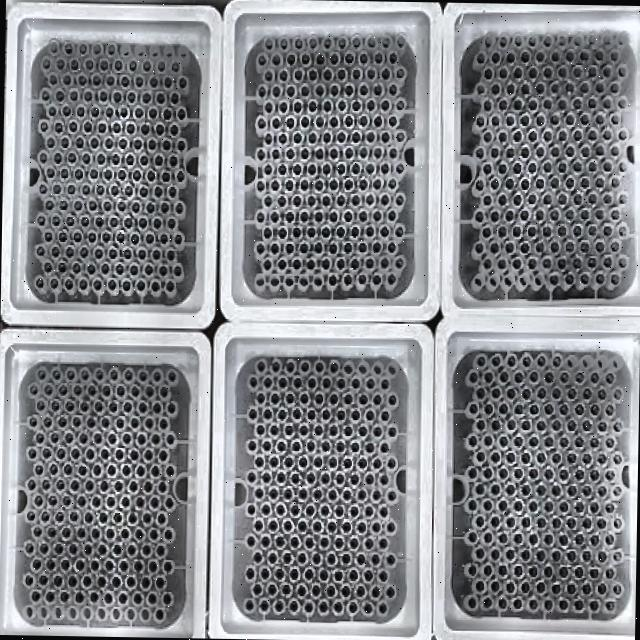vial: (172, 232, 184, 247), (164, 280, 175, 294), (61, 41, 72, 54), (34, 244, 45, 257), (163, 77, 173, 91), (174, 202, 184, 216), (72, 260, 82, 274), (396, 34, 406, 48), (551, 355, 562, 367), (172, 264, 183, 276), (596, 388, 606, 401), (490, 419, 500, 432), (60, 105, 70, 118), (65, 183, 75, 196), (38, 182, 48, 195), (144, 232, 154, 245), (64, 245, 74, 258), (50, 245, 60, 258), (150, 281, 160, 294), (144, 264, 154, 277), (349, 194, 359, 207), (40, 88, 49, 102), (381, 66, 390, 80), (536, 354, 546, 366), (476, 354, 486, 366), (590, 405, 600, 417), (574, 436, 584, 448), (612, 484, 622, 496), (474, 516, 484, 528), (356, 586, 366, 598), (341, 584, 351, 596), (356, 553, 366, 565), (378, 570, 388, 582), (386, 586, 396, 598), (292, 376, 302, 388), (254, 360, 264, 372), (34, 432, 44, 444), (144, 417, 154, 429), (155, 60, 165, 72), (134, 76, 144, 88), (155, 124, 165, 136), (124, 153, 134, 165), (94, 216, 104, 228), (103, 168, 113, 180), (68, 121, 78, 133), (38, 120, 48, 132), (176, 170, 186, 182), (137, 216, 147, 228), (56, 262, 66, 274), (366, 35, 376, 47), (322, 36, 332, 48), (308, 36, 318, 48), (329, 52, 339, 64), (300, 52, 310, 64), (372, 84, 382, 96), (255, 86, 265, 98), (328, 210, 338, 222), (328, 178, 338, 190), (262, 226, 272, 238), (394, 194, 404, 206), (386, 242, 396, 254), (573, 34, 583, 46), (558, 34, 568, 46), (498, 98, 508, 110), (528, 98, 538, 110), (484, 34, 494, 46), (476, 52, 486, 64), (482, 100, 492, 112), (617, 161, 627, 173), (610, 208, 620, 220), (580, 272, 590, 284), (594, 208, 604, 220), (526, 258, 536, 270), (595, 272, 605, 284), (618, 256, 628, 268), (138, 401, 147, 414), (80, 215, 89, 228), (51, 214, 60, 227), (160, 201, 169, 214), (166, 217, 175, 230), (135, 280, 144, 293), (92, 278, 101, 291), (394, 225, 403, 238), (476, 84, 484, 98), (552, 387, 562, 398), (528, 467, 538, 478), (498, 467, 508, 478), (536, 517, 546, 528), (490, 516, 500, 527), (612, 550, 622, 561), (604, 567, 614, 578), (574, 566, 584, 577), (558, 566, 568, 577), (536, 582, 546, 593), (267, 584, 277, 595), (282, 488, 292, 499), (276, 472, 286, 483), (268, 488, 278, 499), (328, 361, 338, 372), (262, 408, 272, 419), (27, 416, 37, 427), (176, 108, 186, 119), (84, 59, 94, 70), (91, 76, 101, 87), (126, 91, 136, 102), (132, 170, 142, 181), (139, 155, 149, 166), (94, 185, 104, 196), (103, 137, 113, 148), (152, 186, 162, 197), (158, 233, 168, 244), (136, 249, 146, 260), (78, 246, 88, 257), (63, 278, 73, 289), (306, 163, 316, 174), (306, 227, 316, 238), (254, 243, 264, 254), (364, 226, 374, 237), (527, 35, 537, 46), (490, 84, 500, 95), (594, 51, 604, 62), (610, 114, 620, 125), (580, 147, 590, 158), (534, 178, 544, 189), (512, 163, 522, 174), (534, 115, 544, 126), (519, 242, 529, 253), (610, 273, 620, 284), (474, 244, 484, 255), (522, 354, 531, 366), (492, 354, 501, 366), (551, 484, 560, 496), (388, 522, 397, 534), (333, 602, 342, 614), (349, 569, 358, 581), (256, 424, 265, 436), (379, 473, 388, 485), (248, 376, 257, 388), (372, 394, 381, 406), (137, 433, 146, 445), (112, 512, 121, 524), (120, 496, 129, 508), (107, 464, 116, 476), (63, 464, 72, 476), (158, 480, 167, 492), (141, 576, 150, 588), (45, 590, 54, 602), (31, 590, 40, 602), (155, 609, 164, 621), (142, 60, 151, 72), (128, 60, 137, 72), (149, 76, 158, 88), (82, 90, 91, 102), (116, 232, 125, 244), (116, 200, 125, 212), (118, 136, 127, 148), (74, 170, 83, 182), (51, 184, 60, 196), (60, 137, 69, 149), (38, 151, 47, 163), (177, 140, 186, 152), (152, 216, 161, 228), (130, 232, 139, 244), (123, 248, 132, 260), (115, 262, 124, 274), (86, 263, 95, 275), (49, 278, 58, 290), (43, 262, 52, 274), (381, 36, 390, 48), (338, 36, 347, 48), (374, 52, 383, 64), (358, 52, 367, 64), (315, 54, 324, 66), (286, 54, 295, 66), (271, 53, 280, 65), (359, 114, 368, 126), (307, 100, 316, 112), (272, 86, 281, 98), (395, 162, 404, 174), (349, 224, 358, 236), (358, 178, 367, 190), (321, 226, 330, 238), (388, 209, 397, 221), (379, 225, 388, 237), (306, 258, 315, 270), (617, 34, 626, 46), (602, 34, 611, 46), (506, 52, 515, 64), (557, 98, 566, 110), (580, 176, 589, 188), (527, 162, 536, 174), (520, 146, 529, 158), (610, 144, 619, 156), (603, 224, 612, 236), (580, 241, 589, 253), (505, 242, 514, 254), (248, 439, 256, 452), (145, 449, 153, 462), (110, 184, 118, 197), (612, 175, 620, 188), (602, 192, 610, 205), (544, 373, 554, 383), (514, 468, 524, 478), (604, 404, 614, 414), (604, 470, 614, 480), (612, 518, 622, 528), (604, 534, 614, 544), (558, 600, 568, 610), (528, 600, 538, 610), (282, 520, 292, 530), (252, 552, 262, 562), (372, 426, 382, 436), (350, 442, 360, 452), (320, 474, 330, 484), (328, 426, 338, 436), (284, 361, 294, 371), (342, 394, 352, 404), (380, 410, 390, 420), (144, 386, 154, 396), (122, 402, 132, 412), (150, 464, 160, 474), (120, 528, 130, 538), (128, 482, 138, 492), (54, 544, 64, 554), (163, 530, 173, 540), (96, 576, 106, 586), (68, 576, 78, 586), (132, 594, 142, 604), (170, 62, 180, 72), (104, 76, 114, 86), (88, 108, 98, 118), (140, 124, 150, 134), (110, 154, 120, 164), (146, 202, 156, 212), (128, 264, 138, 274), (34, 278, 44, 288), (351, 36, 361, 46), (380, 100, 390, 110), (358, 84, 368, 94), (336, 100, 346, 110), (350, 163, 360, 173), (292, 164, 302, 174), (342, 212, 352, 222), (542, 66, 552, 76), (572, 66, 582, 76), (602, 97, 612, 107), (572, 162, 582, 172), (594, 114, 604, 124), (594, 242, 604, 252), (564, 241, 574, 251), (610, 240, 620, 250), (507, 355, 516, 366), (484, 372, 493, 383), (499, 371, 508, 382), (522, 388, 531, 399), (559, 469, 568, 480), (536, 421, 545, 432), (514, 436, 523, 447), (589, 502, 598, 513), (551, 550, 560, 561), (537, 550, 546, 561), (613, 583, 622, 594), (605, 599, 614, 610), (498, 598, 507, 609), (483, 597, 492, 608), (348, 602, 357, 613), (306, 441, 315, 452), (247, 471, 256, 482), (388, 490, 397, 501), (328, 393, 337, 404), (52, 368, 61, 379), (36, 368, 45, 379), (85, 448, 94, 459), (79, 400, 88, 411), (41, 447, 50, 458), (57, 385, 66, 396), (160, 418, 169, 429), (98, 545, 107, 556), (136, 466, 145, 477), (84, 544, 93, 555), (69, 511, 78, 522), (26, 479, 35, 490), (157, 576, 166, 587), (126, 576, 135, 587), (53, 576, 62, 587), (23, 575, 32, 586), (60, 591, 69, 602), (48, 41, 57, 52), (114, 60, 123, 71), (99, 59, 108, 70), (42, 58, 51, 69), (120, 75, 129, 86), (99, 92, 108, 103), (131, 202, 140, 213), (117, 169, 126, 180), (73, 231, 82, 242), (90, 137, 99, 148), (97, 123, 106, 134), (82, 121, 91, 132), (44, 200, 53, 211), (36, 216, 45, 227), (293, 37, 302, 48), (344, 115, 353, 126), (285, 148, 294, 159), (263, 164, 272, 175), (343, 179, 352, 190), (285, 211, 294, 222), (262, 196, 271, 207), (387, 273, 396, 284), (372, 274, 381, 285), (299, 275, 308, 286), (543, 36, 552, 47), (491, 51, 500, 62), (483, 68, 492, 79), (520, 50, 529, 61), (528, 67, 537, 78), (565, 145, 574, 156), (550, 147, 559, 158), (558, 130, 567, 141), (498, 193, 507, 204), (490, 178, 499, 189), (483, 163, 492, 174), (602, 161, 611, 172), (587, 257, 596, 268), (565, 274, 574, 285), (542, 258, 551, 269), (498, 226, 507, 237), (490, 211, 499, 222), (482, 258, 491, 269), (584, 386, 592, 398), (598, 518, 606, 530), (598, 485, 606, 497), (558, 534, 566, 546), (552, 516, 560, 528), (568, 484, 576, 496), (590, 600, 598, 612), (543, 566, 551, 578), (468, 564, 476, 576), (318, 600, 326, 612), (304, 568, 312, 580), (289, 600, 297, 612), (284, 552, 292, 564), (277, 440, 285, 452), (278, 378, 286, 390), (248, 408, 256, 420), (256, 392, 264, 404), (102, 384, 110, 396), (30, 384, 38, 396), (166, 434, 174, 446), (27, 448, 35, 460), (121, 464, 129, 476), (48, 528, 56, 540), (78, 464, 86, 476), (26, 542, 34, 554), (150, 496, 158, 508), (112, 576, 120, 588), (39, 574, 47, 586), (118, 592, 126, 604), (62, 74, 70, 86), (156, 92, 164, 104), (142, 92, 150, 104), (112, 90, 120, 102), (104, 108, 112, 120), (56, 89, 64, 101), (73, 200, 81, 212), (82, 152, 90, 164), (75, 137, 83, 149), (54, 152, 62, 164), (46, 136, 54, 148), (168, 156, 176, 168), (168, 186, 176, 198), (152, 248, 160, 260), (108, 247, 116, 259), (122, 280, 130, 292), (108, 280, 116, 292), (79, 280, 87, 292), (279, 36, 287, 48), (390, 50, 398, 62), (345, 52, 353, 64), (258, 54, 266, 66), (330, 116, 338, 128), (301, 115, 309, 127), (324, 68, 332, 80), (308, 68, 316, 80), (396, 99, 404, 111), (359, 146, 367, 158), (344, 146, 352, 158), (300, 148, 308, 160), (256, 148, 264, 160), (270, 211, 278, 223), (588, 32, 596, 44), (500, 34, 508, 46), (514, 67, 522, 79), (506, 83, 514, 95), (550, 82, 558, 94), (544, 98, 552, 110), (573, 97, 581, 109), (588, 160, 596, 172), (542, 130, 550, 142), (498, 131, 506, 143), (618, 192, 626, 204), (527, 226, 535, 238), (490, 242, 498, 254), (506, 210, 514, 222), (559, 372, 568, 382), (575, 372, 584, 382), (575, 469, 584, 479), (613, 422, 622, 432), (514, 501, 523, 511), (475, 549, 484, 559), (468, 532, 477, 542), (498, 500, 507, 510), (468, 500, 477, 510), (597, 584, 606, 594), (551, 584, 560, 594), (468, 598, 477, 608), (363, 540, 372, 550), (349, 538, 358, 548), (327, 586, 336, 596), (334, 538, 343, 548), (260, 568, 269, 578), (246, 536, 255, 546), (363, 602, 372, 612), (388, 427, 397, 437), (349, 474, 358, 484), (358, 458, 367, 468), (327, 490, 336, 500), (328, 457, 337, 467), (285, 394, 294, 404), (321, 378, 330, 388), (65, 369, 74, 379), (86, 418, 95, 428), (50, 432, 59, 442), (72, 384, 81, 394), (50, 401, 59, 411), (43, 416, 52, 426), (43, 386, 52, 396), (37, 400, 46, 410), (112, 546, 121, 556), (99, 513, 108, 523), (77, 496, 86, 506), (40, 544, 49, 554), (49, 496, 58, 506), (40, 512, 49, 522), (166, 466, 175, 476), (165, 498, 174, 508), (133, 561, 142, 571), (105, 560, 114, 570), (75, 560, 84, 570), (60, 560, 69, 570), (31, 560, 40, 570), (75, 592, 84, 602), (77, 76, 86, 86), (122, 218, 132, 227), (109, 218, 118, 228), (133, 140, 142, 150), (102, 202, 111, 212), (65, 216, 74, 226), (58, 200, 67, 210), (161, 172, 170, 182), (100, 262, 109, 272), (372, 118, 381, 128), (351, 132, 360, 142), (344, 85, 353, 95), (352, 68, 361, 78), (299, 85, 308, 95), (256, 117, 265, 127), (381, 132, 390, 142), (329, 148, 338, 158), (379, 163, 388, 173), (321, 164, 330, 174), (278, 165, 287, 175), (395, 258, 404, 268), (357, 274, 366, 284), (513, 100, 522, 110), (579, 50, 588, 60), (564, 82, 573, 92), (588, 66, 597, 76), (594, 82, 603, 92), (565, 178, 574, 188), (520, 178, 529, 188), (504, 116, 514, 125), (594, 178, 603, 188), (572, 258, 581, 268), (580, 210, 589, 220), (557, 258, 566, 268), (565, 210, 574, 220), (535, 210, 544, 220), (602, 256, 611, 266), (606, 373, 614, 384), (613, 389, 621, 400), (538, 388, 546, 399), (582, 420, 590, 431), (552, 452, 560, 463), (567, 421, 575, 432), (491, 451, 499, 462), (484, 403, 492, 414), (584, 452, 592, 463), (574, 534, 582, 545), (575, 501, 583, 512), (567, 517, 575, 528), (544, 501, 552, 512), (544, 599, 552, 610), (513, 599, 521, 610), (521, 582, 529, 593), (514, 565, 522, 576), (499, 564, 507, 575), (312, 554, 320, 565), (298, 552, 306, 563), (314, 520, 322, 531), (276, 568, 284, 579), (268, 552, 276, 563), (260, 536, 268, 547), (246, 567, 254, 578), (372, 585, 380, 596), (378, 602, 386, 613), (366, 443, 374, 454), (344, 427, 352, 438), (314, 457, 322, 468), (276, 505, 284, 516), (284, 457, 292, 468), (262, 471, 270, 482), (388, 457, 396, 468), (314, 393, 322, 404), (152, 371, 160, 382), (95, 368, 103, 379), (80, 369, 88, 380), (115, 448, 123, 459), (100, 448, 108, 459), (108, 432, 116, 443), (108, 402, 116, 413), (78, 433, 86, 444), (88, 384, 96, 395), (168, 403, 176, 414), (152, 433, 160, 444), (159, 450, 167, 461), (130, 450, 138, 461), (136, 497, 144, 508), (106, 497, 114, 508), (84, 512, 92, 523), (92, 464, 100, 475), (26, 511, 34, 522), (34, 495, 42, 506), (48, 464, 56, 475), (128, 546, 136, 557), (158, 513, 166, 524), (157, 545, 165, 556), (164, 593, 172, 604), (104, 593, 112, 604), (90, 592, 98, 603), (148, 108, 156, 119), (120, 108, 128, 119), (76, 106, 84, 117), (47, 105, 55, 116), (170, 124, 178, 135), (146, 170, 154, 181), (138, 187, 146, 198), (124, 186, 132, 197), (88, 200, 96, 211), (126, 123, 134, 134), (82, 183, 90, 194), (68, 152, 76, 163), (46, 168, 54, 179), (54, 122, 62, 133), (264, 39, 272, 50), (389, 84, 397, 95), (366, 132, 374, 143), (366, 100, 374, 111), (315, 116, 323, 127), (293, 132, 301, 143), (293, 101, 301, 112), (264, 133, 272, 144), (278, 101, 286, 112), (286, 85, 294, 96), (294, 69, 302, 80), (264, 101, 272, 112), (396, 131, 404, 142), (336, 163, 344, 174), (388, 178, 396, 189), (366, 194, 374, 205), (358, 210, 366, 221), (336, 194, 344, 205), (300, 243, 308, 254), (314, 212, 322, 223), (321, 195, 329, 206), (292, 227, 300, 238), (286, 242, 294, 253), (270, 243, 278, 254), (373, 210, 381, 221), (514, 35, 522, 46), (500, 67, 508, 78), (536, 52, 544, 63), (521, 83, 529, 94), (551, 50, 559, 61), (536, 83, 544, 94), (580, 81, 588, 92), (588, 97, 596, 108), (574, 193, 582, 204), (558, 193, 566, 204), (588, 129, 596, 140), (542, 162, 550, 173), (566, 115, 574, 126), (536, 147, 544, 158), (513, 130, 521, 141), (476, 180, 484, 191), (476, 148, 484, 159), (588, 193, 596, 204), (588, 226, 596, 237), (550, 273, 558, 284), (551, 242, 559, 253), (536, 242, 544, 253), (542, 226, 550, 237), (498, 258, 506, 269), (168, 370, 175, 382), (293, 194, 300, 206), (289, 569, 298, 578), (109, 369, 118, 378), (506, 148, 515, 157), (514, 372, 522, 382), (530, 372, 538, 382), (590, 374, 598, 384), (568, 388, 576, 398), (507, 388, 515, 398), (492, 388, 500, 398), (568, 452, 576, 462), (545, 468, 553, 478), (560, 436, 568, 446), (560, 404, 568, 414), (552, 420, 560, 430), (545, 436, 553, 446), (537, 453, 545, 463), (522, 454, 530, 464), (530, 436, 538, 446), (545, 404, 553, 414), (522, 420, 530, 430), (507, 452, 515, 462), (484, 468, 492, 478), (500, 436, 508, 446), (506, 420, 514, 430), (500, 403, 508, 413), (484, 436, 492, 446), (476, 451, 484, 461), (468, 468, 476, 478), (468, 436, 476, 446), (598, 422, 606, 432), (590, 470, 598, 480), (598, 454, 606, 464), (606, 438, 614, 448), (591, 536, 599, 546), (582, 550, 590, 560), (568, 550, 576, 560), (582, 518, 590, 528), (544, 534, 552, 544), (560, 502, 568, 512), (528, 534, 536, 544), (514, 534, 522, 544), (522, 517, 530, 527), (536, 486, 544, 496), (521, 484, 529, 494), (506, 516, 514, 526), (498, 532, 506, 542), (484, 532, 492, 542), (491, 484, 499, 494), (484, 500, 492, 510), (476, 485, 484, 495), (598, 551, 606, 561), (582, 583, 590, 593), (590, 568, 598, 578), (567, 584, 575, 594), (528, 566, 536, 576), (506, 582, 514, 592), (491, 581, 499, 591), (484, 565, 492, 575), (380, 538, 388, 548), (372, 554, 380, 564), (364, 570, 372, 580), (334, 570, 342, 580), (304, 602, 312, 612), (312, 584, 320, 594), (320, 572, 328, 582), (342, 522, 350, 532), (320, 537, 328, 547), (275, 600, 283, 610), (290, 537, 298, 547), (254, 584, 262, 594), (276, 536, 284, 546), (269, 521, 277, 531), (254, 521, 262, 531), (381, 443, 389, 453), (373, 458, 381, 468), (365, 474, 373, 484), (350, 505, 358, 515), (335, 506, 343, 516), (342, 490, 350, 500), (359, 426, 367, 436), (320, 506, 328, 516), (306, 506, 314, 516), (336, 442, 344, 452), (322, 440, 330, 450), (306, 473, 314, 483), (298, 487, 306, 497), (291, 474, 299, 484), (298, 458, 306, 468), (262, 504, 270, 514), (247, 504, 255, 514), (255, 488, 263, 498), (270, 455, 278, 465), (284, 426, 292, 436), (270, 424, 278, 434), (372, 490, 380, 500), (366, 506, 374, 516), (314, 361, 322, 371), (278, 408, 286, 418), (300, 362, 308, 372), (271, 360, 279, 370), (307, 410, 315, 420), (322, 410, 330, 420), (336, 378, 344, 388), (352, 378, 360, 388), (351, 410, 359, 420), (358, 394, 366, 404), (366, 378, 374, 388), (388, 394, 396, 404), (366, 410, 374, 420), (138, 372, 146, 382), (123, 370, 131, 380), (130, 418, 138, 428), (122, 434, 130, 444), (115, 418, 123, 428), (116, 386, 124, 396), (101, 418, 109, 428), (94, 432, 102, 442), (71, 448, 79, 458), (94, 402, 102, 412), (72, 416, 80, 426), (64, 432, 72, 442), (58, 417, 66, 427), (153, 402, 161, 412), (144, 481, 152, 491), (106, 528, 114, 538), (90, 528, 98, 538), (69, 544, 77, 554), (78, 528, 86, 538), (92, 497, 100, 507), (100, 480, 108, 490), (55, 512, 63, 522), (64, 498, 72, 508), (70, 480, 78, 490), (56, 480, 64, 490), (34, 526, 42, 536), (34, 464, 42, 474), (143, 514, 151, 524), (134, 528, 142, 538), (150, 528, 158, 538), (142, 546, 150, 556), (163, 562, 171, 572), (120, 560, 128, 570), (91, 560, 99, 570), (83, 576, 91, 586), (148, 594, 156, 604), (178, 77, 186, 87), (170, 93, 178, 103), (56, 59, 64, 69), (48, 74, 56, 84), (134, 108, 142, 118), (70, 89, 78, 99), (162, 140, 170, 150), (102, 233, 110, 243), (147, 139, 155, 149), (88, 232, 96, 242), (112, 122, 120, 132), (97, 153, 105, 163), (90, 168, 98, 178), (58, 232, 66, 242), (60, 168, 68, 178), (94, 248, 102, 258), (159, 265, 167, 275), (398, 68, 406, 78), (367, 68, 375, 78), (352, 100, 360, 110), (337, 132, 345, 142), (322, 132, 330, 142), (338, 68, 346, 78), (308, 132, 316, 142), (316, 86, 324, 96), (286, 117, 294, 127), (272, 118, 280, 128), (279, 70, 287, 80), (264, 70, 272, 80), (389, 148, 397, 158), (374, 148, 382, 158), (315, 148, 323, 158), (271, 148, 279, 158), (373, 180, 381, 190), (344, 242, 352, 252), (330, 242, 338, 252), (336, 226, 344, 236), (314, 243, 322, 253), (307, 195, 315, 205), (300, 211, 308, 221), (278, 228, 286, 238), (300, 179, 308, 189), (278, 196, 286, 206), (256, 212, 264, 222), (256, 180, 264, 190), (359, 242, 367, 252), (373, 242, 381, 252), (380, 258, 388, 268), (364, 258, 372, 268), (336, 259, 344, 269), (292, 258, 300, 268), (278, 258, 286, 268), (264, 259, 272, 269), (343, 274, 351, 284), (328, 274, 336, 284), (314, 276, 322, 286), (566, 50, 574, 60), (558, 66, 566, 76), (610, 50, 618, 60), (603, 66, 611, 76), (617, 66, 625, 76), (610, 81, 618, 91), (618, 97, 626, 107), (604, 130, 612, 140), (596, 145, 604, 155), (580, 114, 588, 124), (574, 130, 582, 140), (558, 162, 566, 172), (551, 178, 559, 188), (542, 194, 552, 202), (551, 114, 559, 124), (513, 194, 521, 204), (506, 178, 514, 188), (528, 132, 536, 142), (498, 164, 506, 174), (482, 195, 490, 205), (483, 132, 491, 142), (618, 130, 626, 140), (574, 226, 582, 236), (550, 210, 558, 220), (520, 210, 528, 220), (512, 226, 520, 236), (512, 258, 520, 268), (618, 226, 626, 236), (381, 379, 388, 390), (71, 59, 78, 70), (331, 85, 338, 96), (491, 115, 498, 126), (468, 404, 476, 413), (614, 453, 622, 462), (522, 550, 530, 559), (575, 600, 583, 609), (342, 553, 350, 562), (327, 522, 336, 530), (298, 520, 306, 529), (260, 601, 268, 610), (387, 556, 396, 564), (358, 490, 366, 499), (344, 458, 352, 467), (313, 490, 321, 499), (300, 425, 308, 434), (292, 441, 300, 450), (255, 458, 263, 467), (308, 378, 316, 387), (263, 377, 271, 386), (336, 411, 344, 420), (160, 387, 168, 396), (114, 482, 122, 491), (85, 480, 93, 489), (41, 480, 49, 489), (389, 117, 397, 126), (366, 163, 374, 172), (520, 116, 528, 125), (482, 228, 491, 236), (469, 371, 476, 381), (576, 405, 583, 415), (531, 404, 538, 414), (492, 548, 499, 558), (506, 484, 513, 494), (476, 582, 483, 592), (298, 585, 305, 595), (283, 585, 290, 595), (245, 600, 252, 610), (301, 392, 308, 402), (270, 394, 277, 404), (131, 386, 138, 396), (57, 449, 64, 459), (63, 527, 70, 537), (155, 155, 162, 165), (167, 250, 174, 260), (324, 100, 331, 110), (351, 258, 358, 268), (322, 258, 329, 268), (491, 148, 498, 158), (294, 408, 300, 419), (286, 179, 292, 190), (272, 180, 278, 191), (478, 116, 484, 127), (476, 389, 484, 397), (607, 502, 615, 510), (583, 486, 591, 494), (506, 550, 514, 558), (358, 524, 366, 532), (314, 426, 322, 434), (378, 506, 386, 514), (128, 514, 136, 522), (528, 194, 536, 202), (558, 226, 566, 234), (477, 420, 484, 429), (530, 502, 537, 511), (373, 523, 380, 532), (328, 554, 335, 563), (263, 442, 270, 451), (163, 110, 170, 119), (45, 231, 52, 240), (381, 194, 388, 203), (516, 404, 522, 414), (306, 538, 312, 548), (336, 474, 342, 484), (66, 401, 72, 411), (48, 560, 54, 570), (280, 132, 286, 142), (316, 181, 322, 191), (476, 211, 482, 221), (149, 562, 156, 570), (592, 438, 598, 447), (292, 506, 298, 515)
